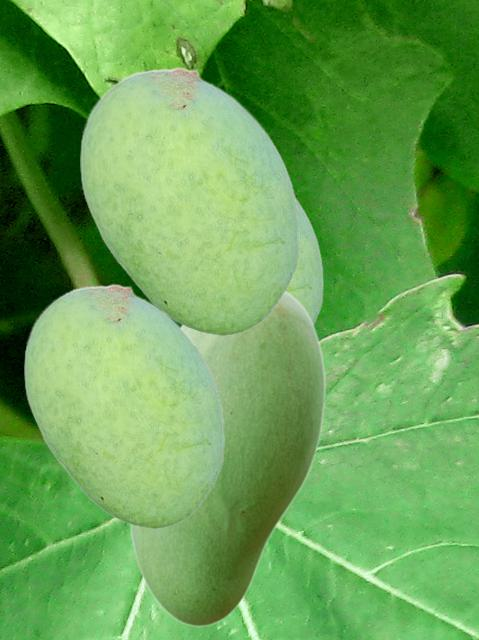green_mango: (128, 292, 324, 626), (80, 66, 298, 334), (24, 283, 223, 527), (287, 196, 322, 325)
